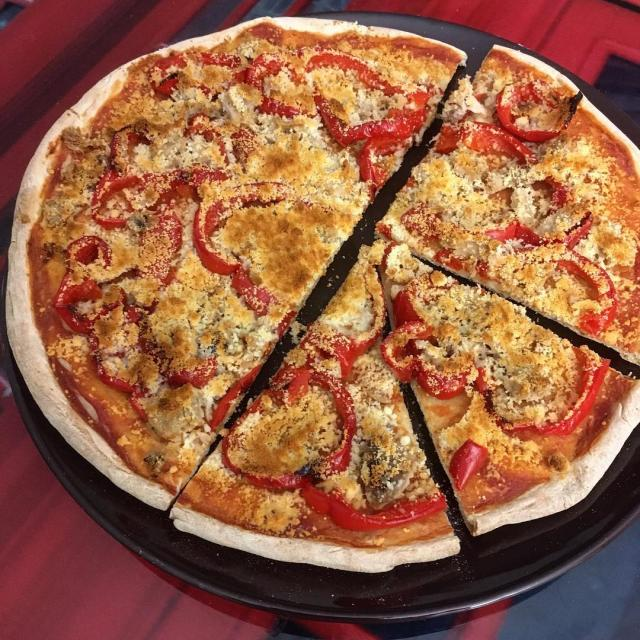pizza: (0, 6, 640, 584)
